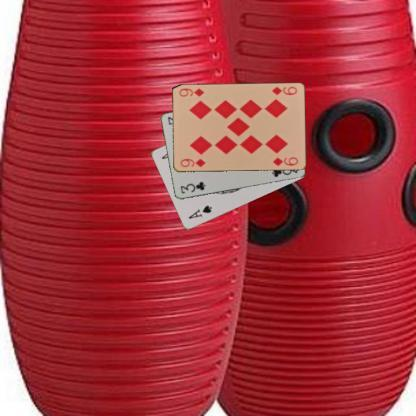3c: (178, 179, 206, 195)
9d: (269, 84, 298, 96), (178, 156, 206, 168)
As: (186, 203, 213, 221)
